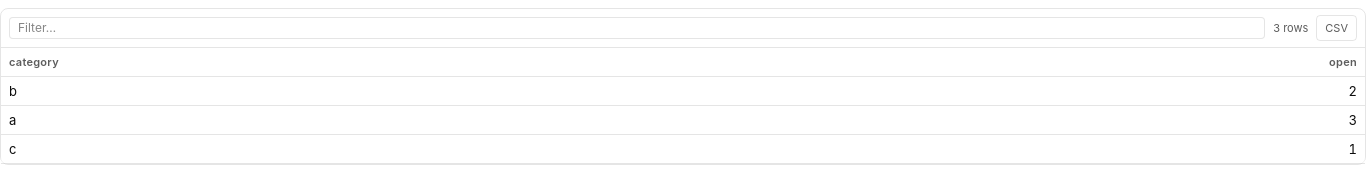
Test: TableView › sorts ascending, then descending, then not at all
The image size is (1366, 182).
Click the button "category".
click(34, 62)  # box x1=9 y1=52 x2=812 y2=72
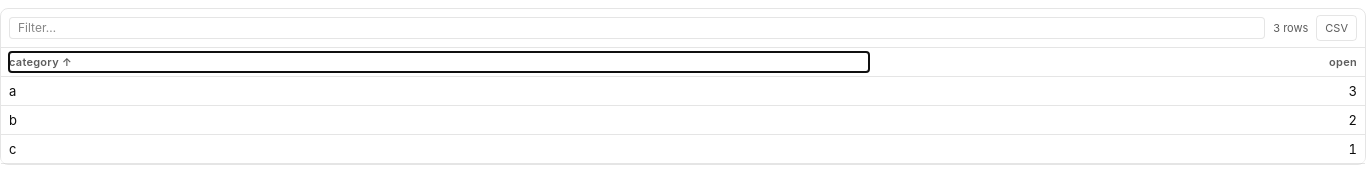
expect the row "a 3" is shown: met, box x1=1 y1=76 x2=1365 y2=106
Click the button "category ↑".
click(34, 62)  # box x1=9 y1=52 x2=870 y2=72
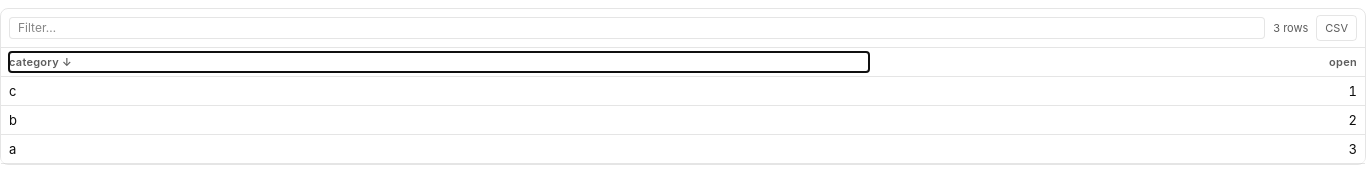
expect the row "c 1" is shown: met, box x1=1 y1=76 x2=1365 y2=106
Click the button "category ↓".
click(34, 62)  # box x1=9 y1=52 x2=870 y2=72
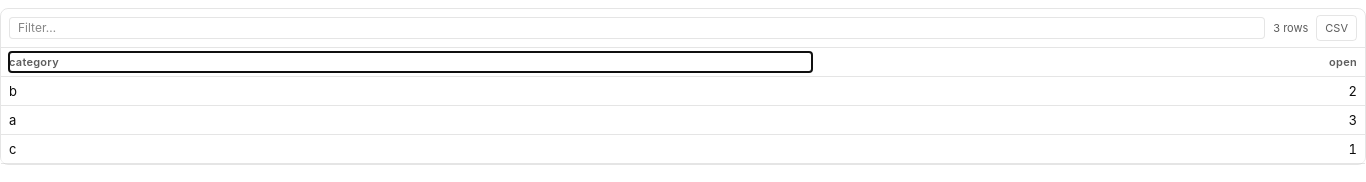
expect the row "b 2" is shown: met, box x1=1 y1=76 x2=1365 y2=106
